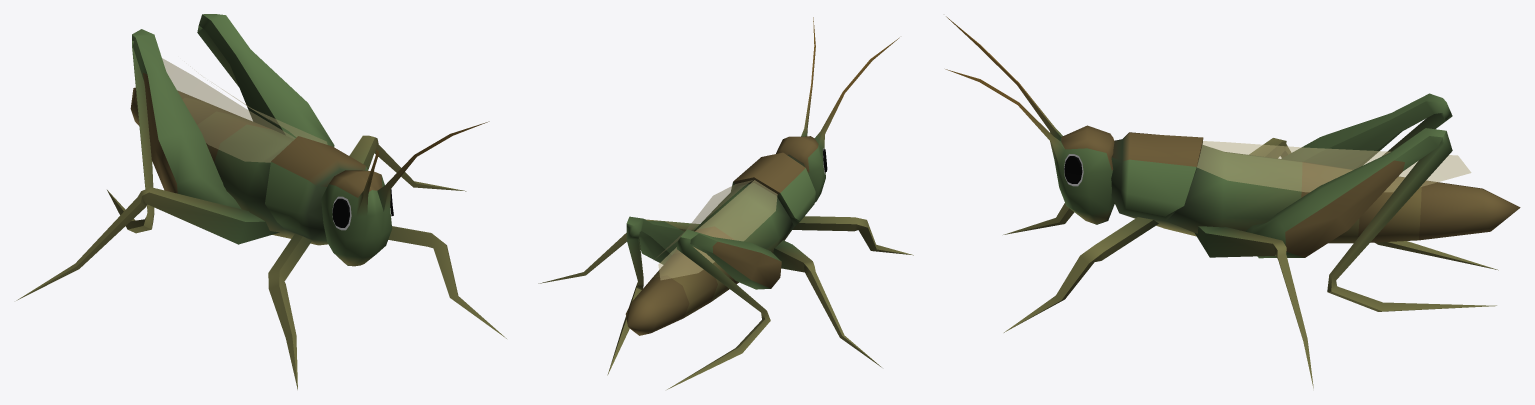
Rendered from kit-grasshopper.glb.
3 renders of one model, left to right at view 1: azimuth 30°, elevation 25°; view 2: azimuth 150°, elevation 25°; view 3: azimuth 270°, elevation 25°, orthographic. The views are drawn at different scales.
Parts seen in each view (by area): view 1: base, transp; view 2: base, transp; view 3: base, transp.
Boxes of the visible parts, x1,y1,x2,y2 form: base: (16,14,506,389); transp: (162,58,327,162); base: (538,17,913,389); transp: (654,180,777,280); base: (945,16,1520,388); transp: (1197,141,1471,192).
Bounding box in the file's own units: 4.17 × 2.25 × 4.77.
